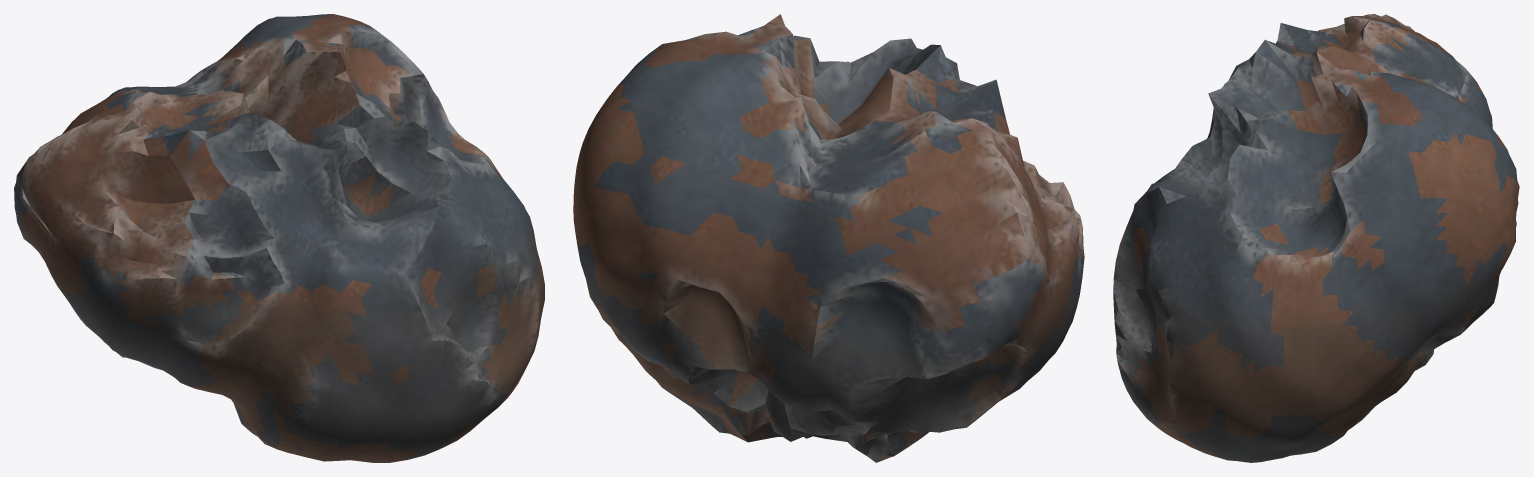
File: big-metallic-asteroid.glb
3 views of the same model, side by side, from view 1: azimuth 30°, elevation 25°; view 2: azimuth 150°, elevation 25°; view 3: azimuth 270°, elevation 25° (orthographic). The views are drawn at different scales.
Visible parts, largest first — view 1: body; view 2: body; view 3: body.
Boxes of the visible parts, left/top/right/bottom form: body: left=14, top=14, right=544, bottom=462; body: left=573, top=14, right=1084, bottom=462; body: left=1113, top=14, right=1519, bottom=462.
Bounding box in the file's own units: 5.24 × 4.31 × 4.32.
Materials: 1 (1 with a texture image).
